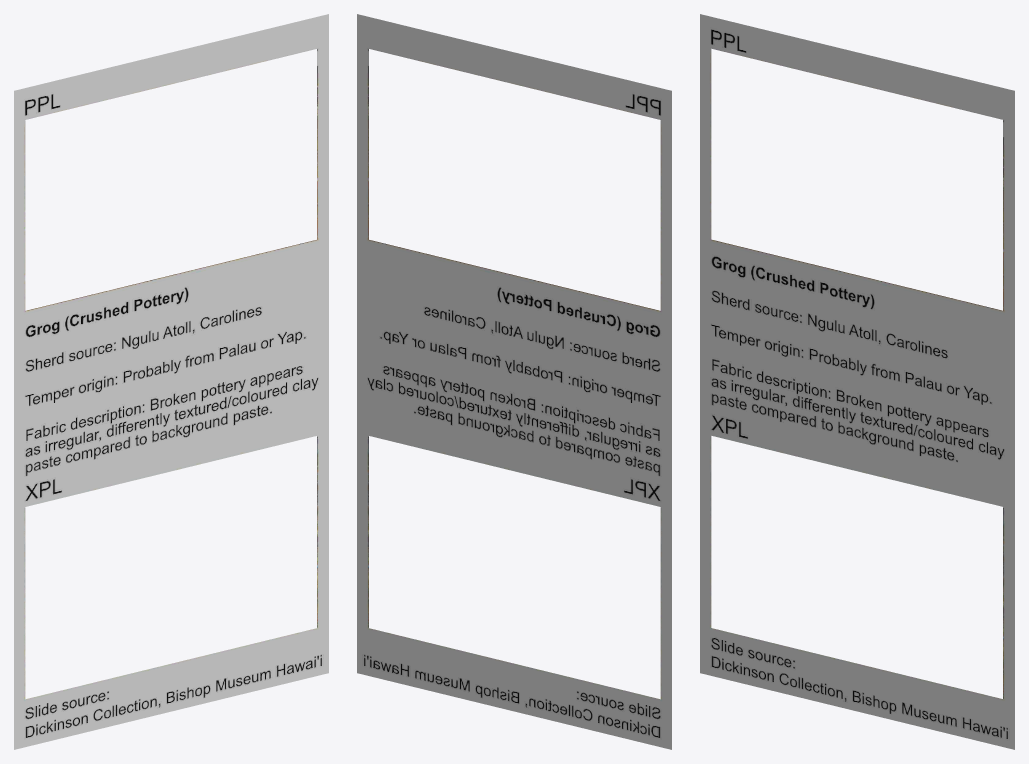
Rendered from wd_10_10_frame.glb.
3 renders of one model, left to right at view 1: azimuth 30°, elevation 25°; view 2: azimuth 150°, elevation 25°; view 3: azimuth 330°, elevation 25°, orthographic.
Visible parts, largest first — view 1: WD_10_10; view 2: WD_10_10; view 3: WD_10_10.
Part boxes in pixels (box(x1,y1,x2,y2)): WD_10_10: box(14, 14, 328, 749); WD_10_10: box(357, 14, 671, 749); WD_10_10: box(700, 14, 1014, 749).
Bounding box in the file's own units: 0.5 × 1 × 4.37e-08.
Materials: 1 (1 with a texture image).
